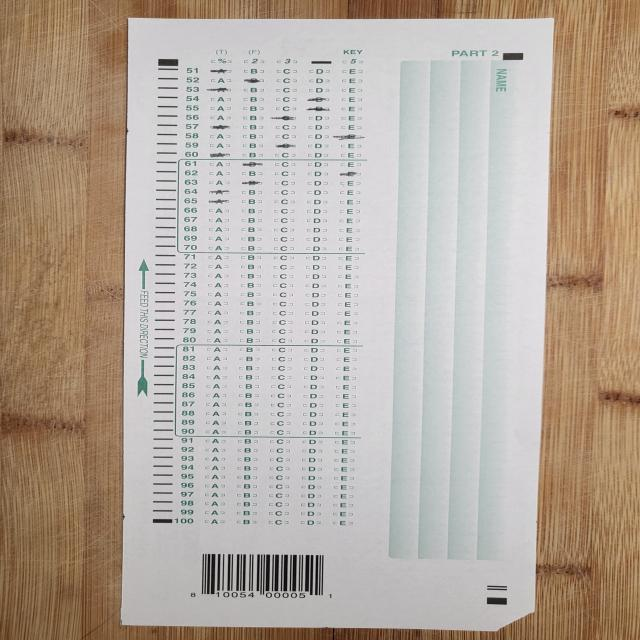scantron_back: (118, 17, 556, 631)
